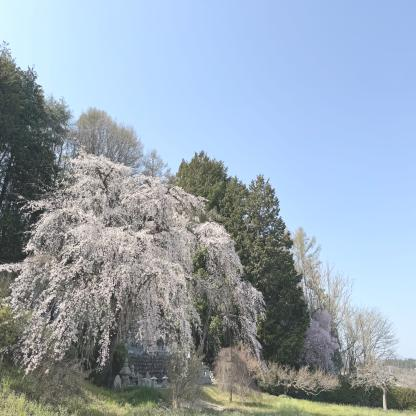ShidareZakura: (1, 150, 267, 390)
